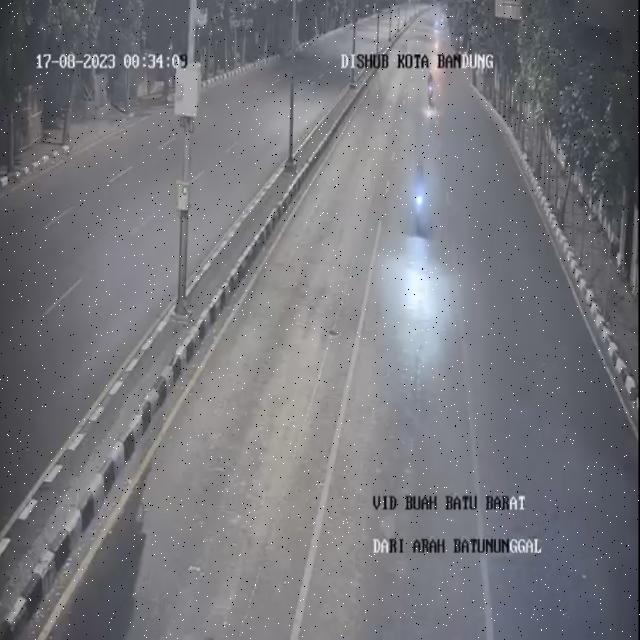motorcycle: (413, 161, 427, 236), (428, 71, 434, 105)
